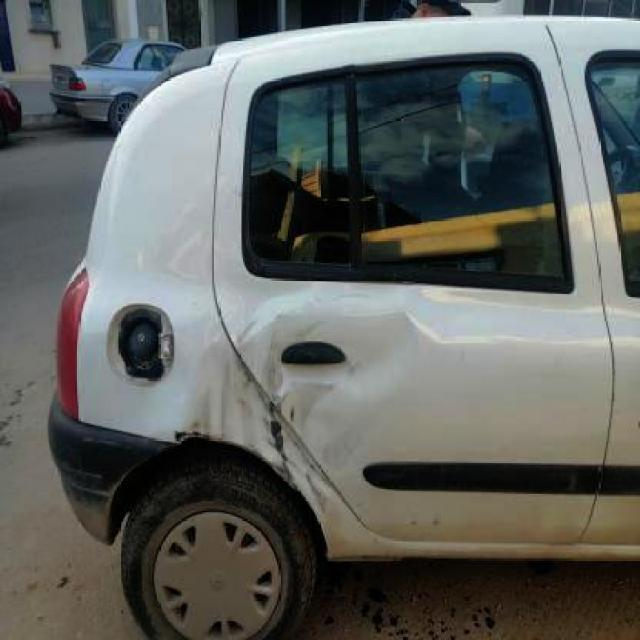car damage: (189, 289, 436, 520), (267, 414, 284, 462)
